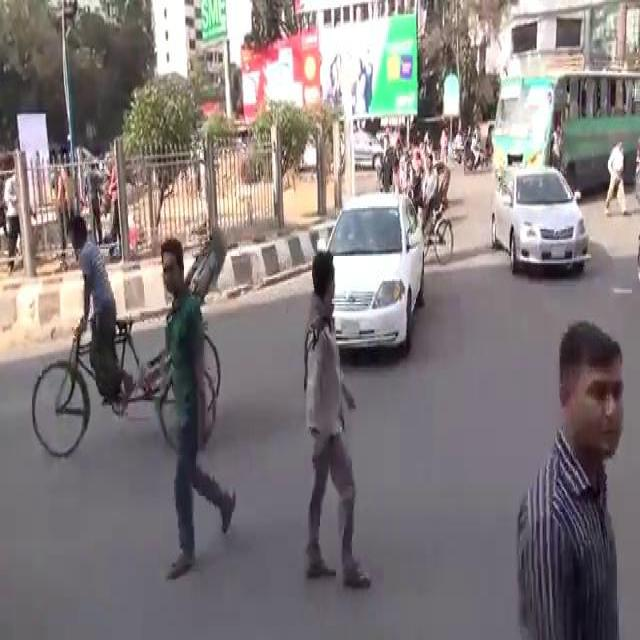bus: (487, 66, 637, 194)
car: (315, 190, 429, 361), (486, 158, 590, 276), (353, 124, 385, 170)
motorbike: (462, 130, 484, 176)
rickshaw: (28, 226, 226, 460), (408, 158, 454, 265)
